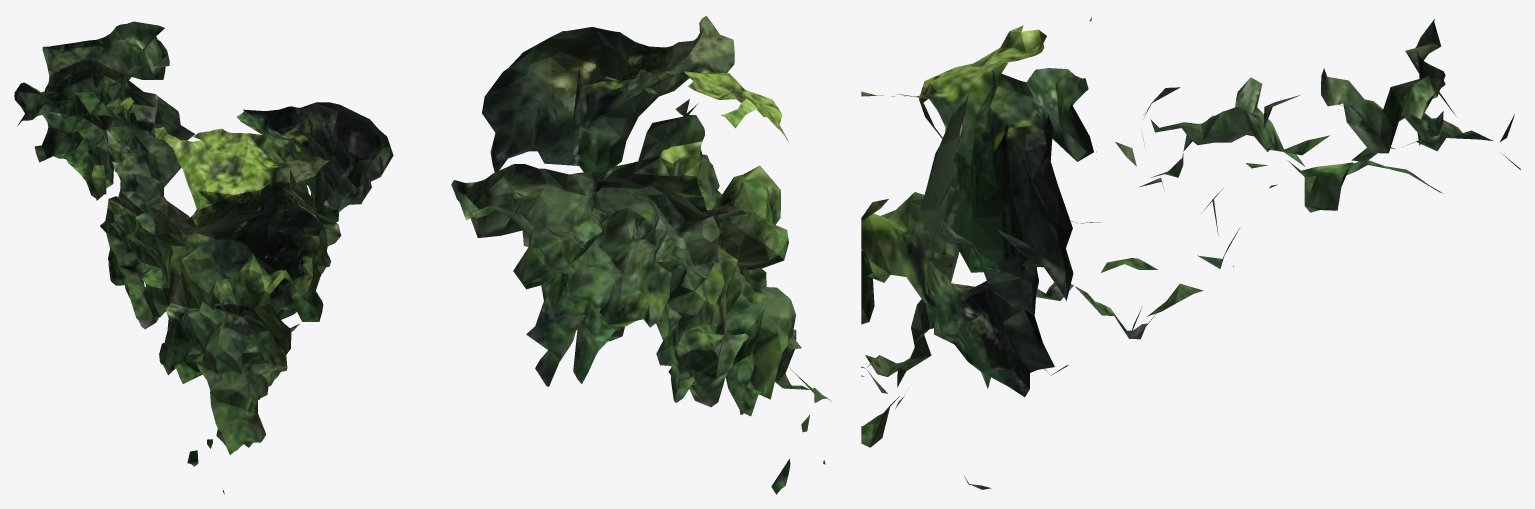
3 renders of one model, left to right at view 1: azimuth 30°, elevation 25°; view 2: azimuth 150°, elevation 25°; view 3: azimuth 270°, elevation 25°, orthographic. The views are drawn at different scales.
Bounding box in the file's own units: 14.58 × 21.01 × 26.11.
Materials: 3 (3 with a texture image).
